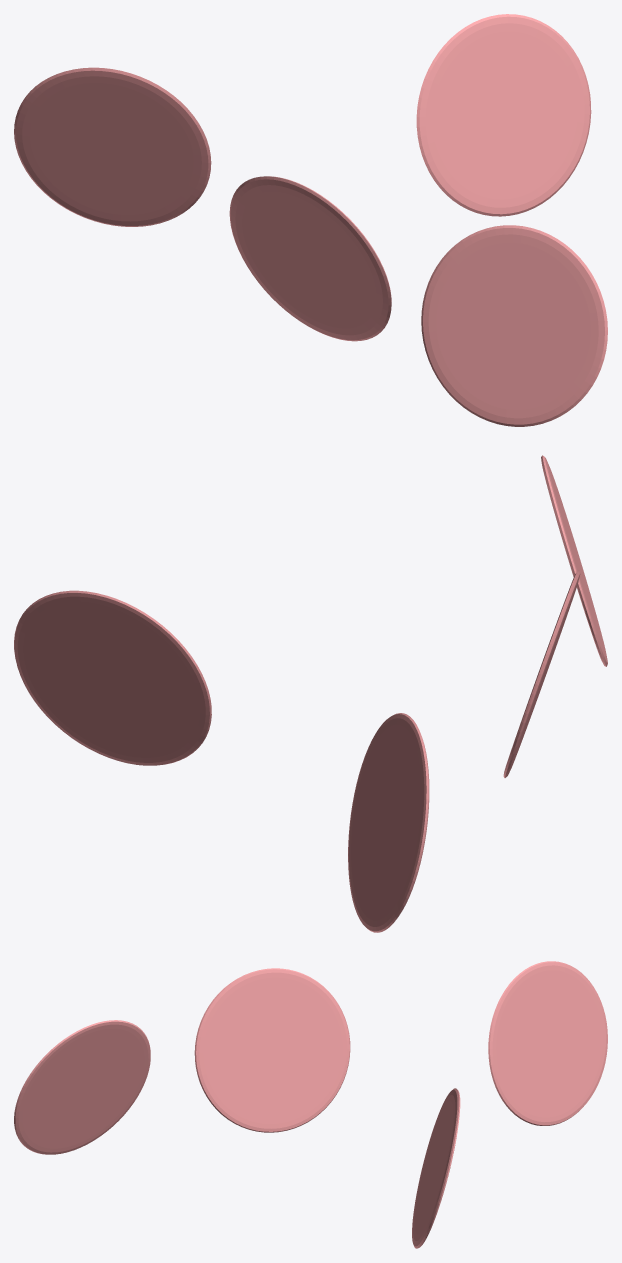
Rendered from DecoChocolatePink.glb.
3 views of the same model, one above another, from view 1: azimuth 30°, elevation 25°; view 2: azimuth 150°, elevation 25°; view 3: azimuth 270°, elevation 25° (orthographic). The views are drawn at different scales.
Visible parts, largest first — view 1: Circle.002, Circle, Circle.001, Circle.003; view 2: Circle, Circle.001, Circle.002, Circle.003; view 3: Circle.003, Circle.001, Circle.002, Circle.
Boxes of the visible parts, box(x1,y1,x2,y2) form: Circle.002: box(421, 225, 607, 426); Circle: box(416, 14, 591, 216); Circle.001: box(14, 67, 211, 226); Circle.003: box(229, 176, 391, 341); Circle: box(14, 590, 211, 765); Circle.001: box(348, 713, 429, 932); Circle.002: box(541, 455, 607, 666); Circle.003: box(503, 570, 580, 777); Circle.003: box(194, 968, 350, 1132); Circle.001: box(488, 961, 607, 1125); Circle.002: box(14, 1020, 150, 1154); Circle: box(412, 1088, 460, 1248).
Size of the model in its own units: 1.01 by 0.3701 by 1.34.
